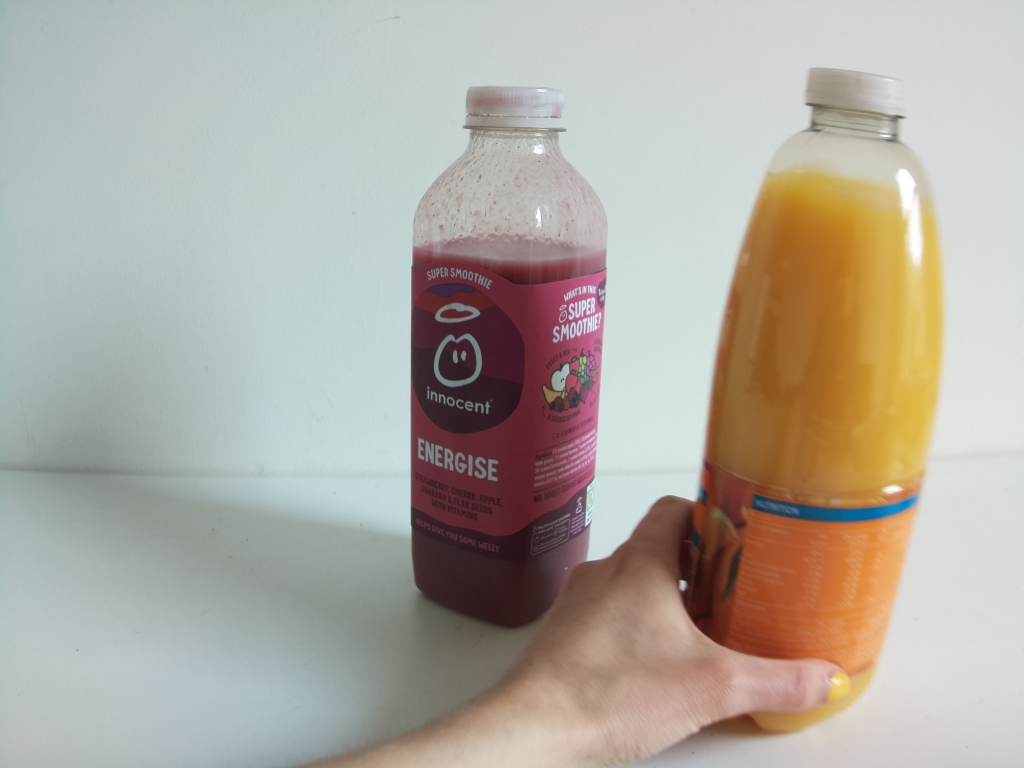juice: (694, 61, 949, 728), (408, 80, 605, 628)
